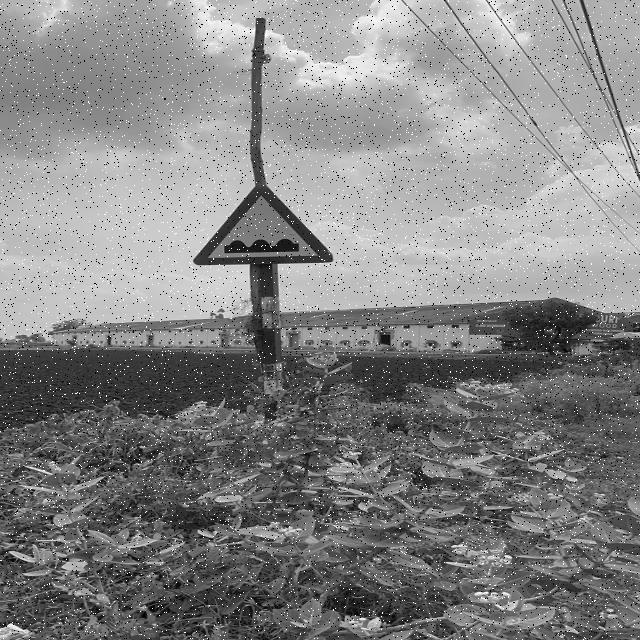Rumble_strip: (192, 187, 336, 265)
